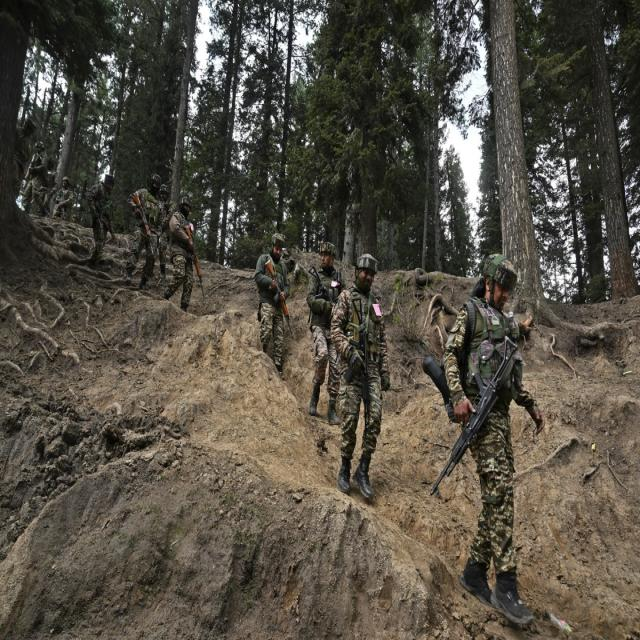Forest: (0, 0, 640, 640), (9, 9, 632, 638)
Militant: (439, 234, 550, 622), (335, 238, 397, 509), (308, 224, 348, 442), (254, 218, 300, 388), (128, 162, 177, 294), (168, 183, 210, 318), (23, 144, 75, 230), (87, 153, 119, 286)
